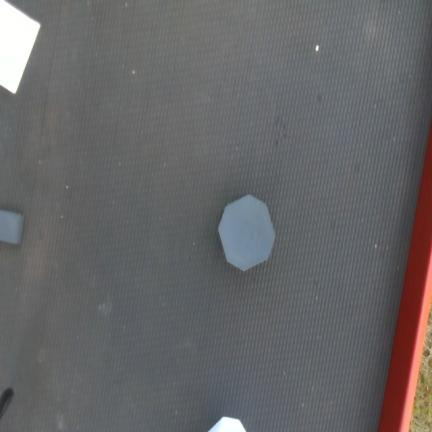Paralelepipedo: (0, 210, 25, 245)
Piramide: (0, 0, 41, 95)
Prisma_hexagonal: (218, 194, 276, 270), (208, 417, 247, 431)
